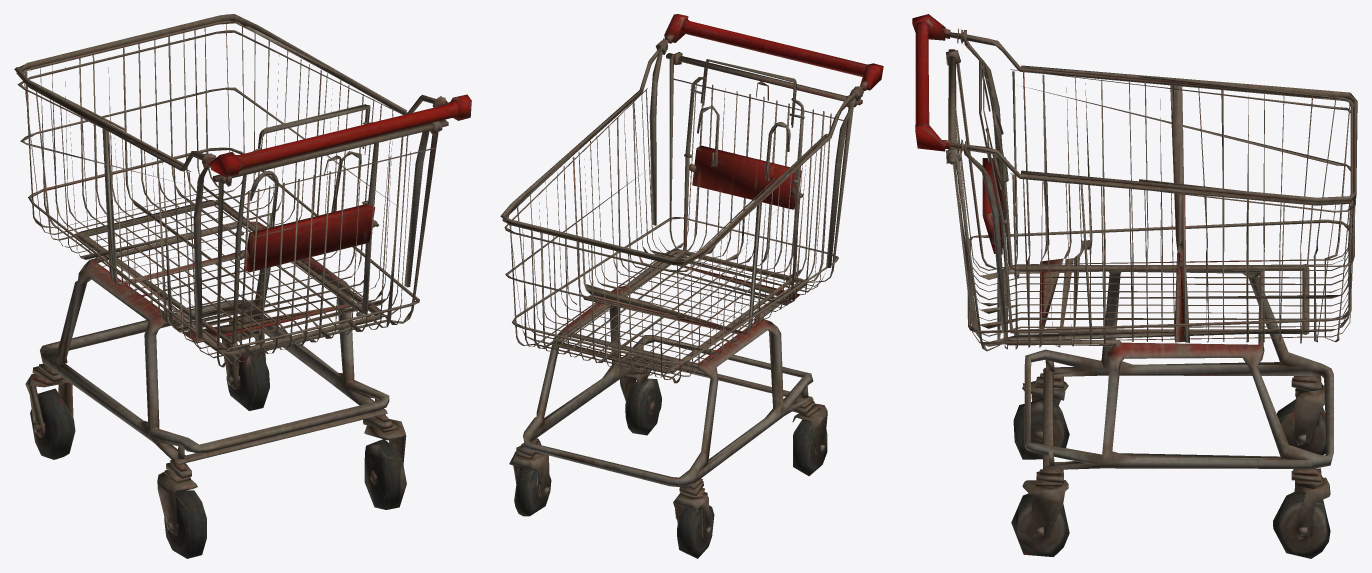
Rendered from p7-shopping-cart-t25.glb.
3 renders of one model, left to right at view 1: azimuth 30°, elevation 25°; view 2: azimuth 150°, elevation 25°; view 3: azimuth 270°, elevation 25°, orthographic. The views are drawn at different scales.
Visible parts, largest first — view 1: p7-shopping-cart-t25; view 2: p7-shopping-cart-t25; view 3: p7-shopping-cart-t25.
Boxes of the visible parts, box(x1,y1,x2,y2) form: p7-shopping-cart-t25: box(14, 14, 471, 558); p7-shopping-cart-t25: box(500, 14, 883, 558); p7-shopping-cart-t25: box(912, 14, 1357, 558).
Bounding box in the file's own units: 0.6 × 1.05 × 0.965.
1 material, 1 textured.
